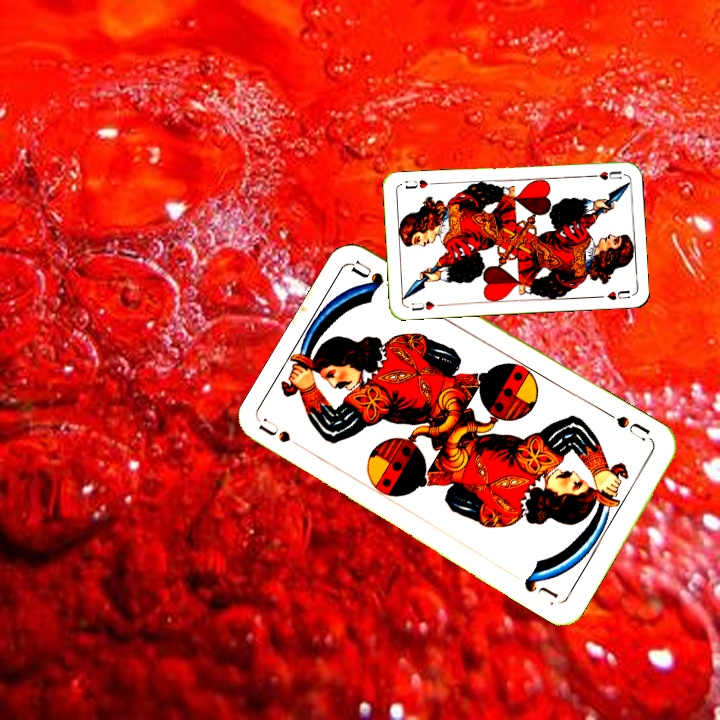HU: (407, 297, 444, 314), (586, 167, 624, 182)
SU: (256, 414, 312, 455), (602, 408, 656, 445)
